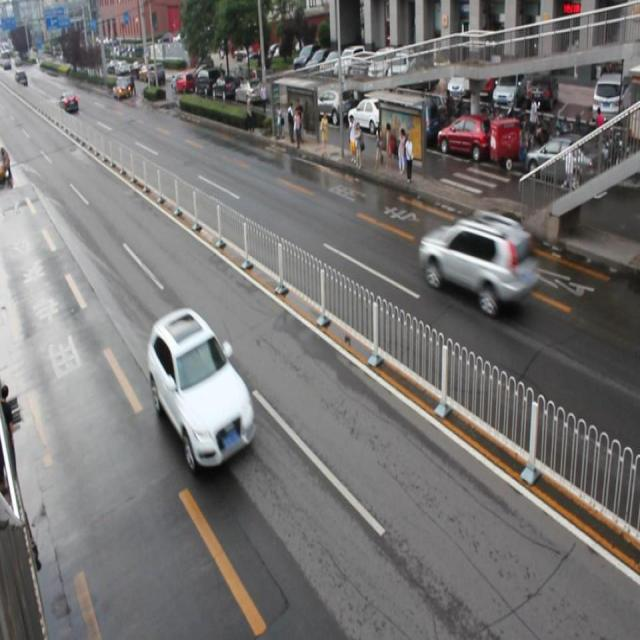car: (146, 308, 256, 468), (415, 210, 538, 314)
